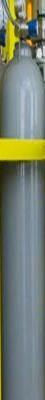cylinder: (0, 1, 45, 400)
